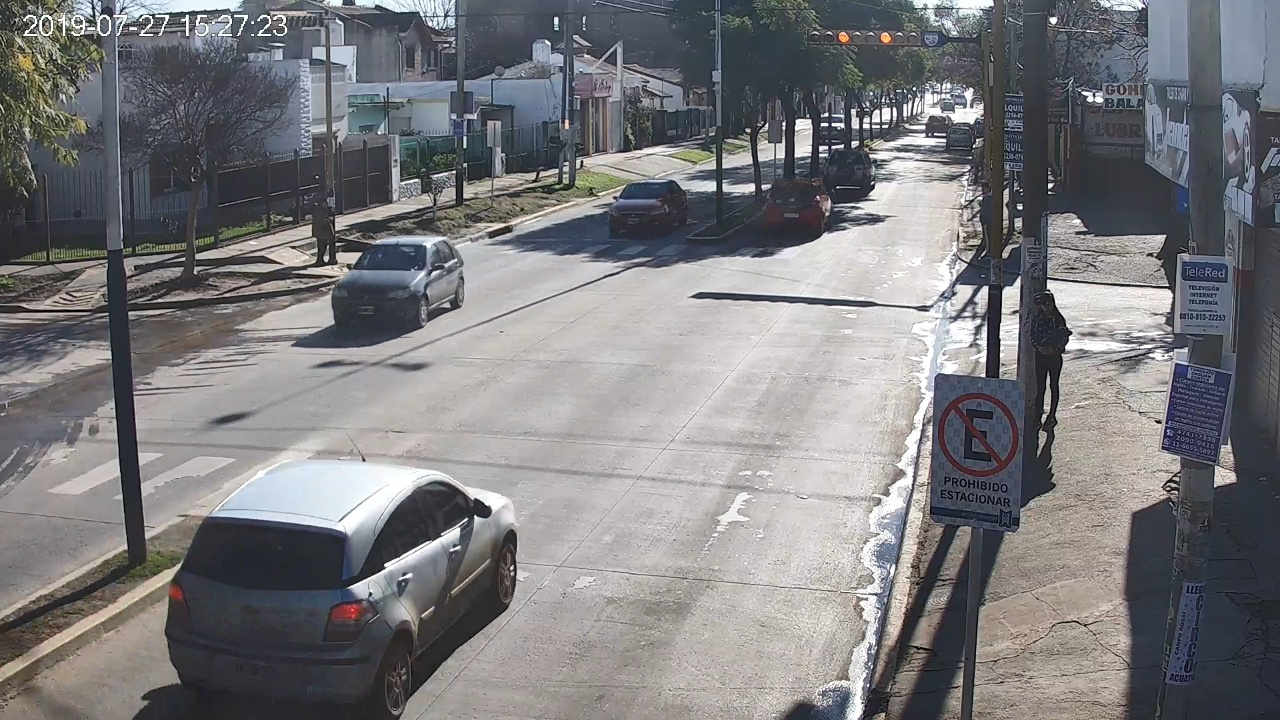car: (164, 461, 518, 720)
front car: (332, 236, 466, 329), (609, 179, 688, 237)
traffic light: (836, 28, 920, 45)
